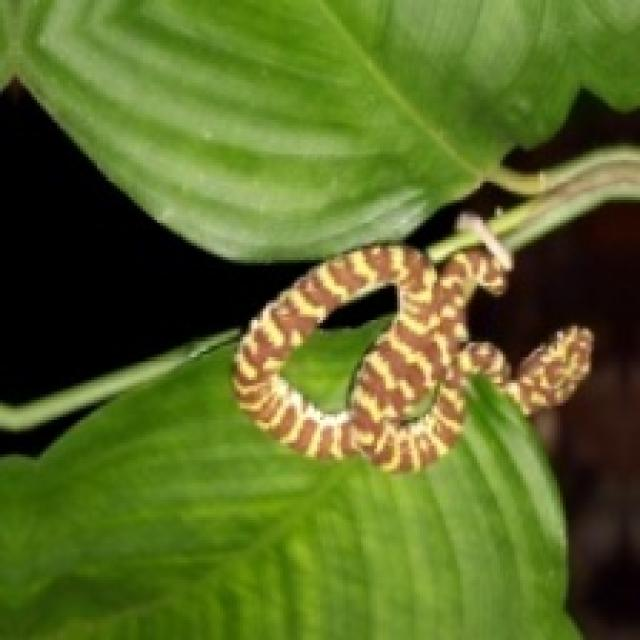philippine pitviper: (234, 214, 591, 469)
